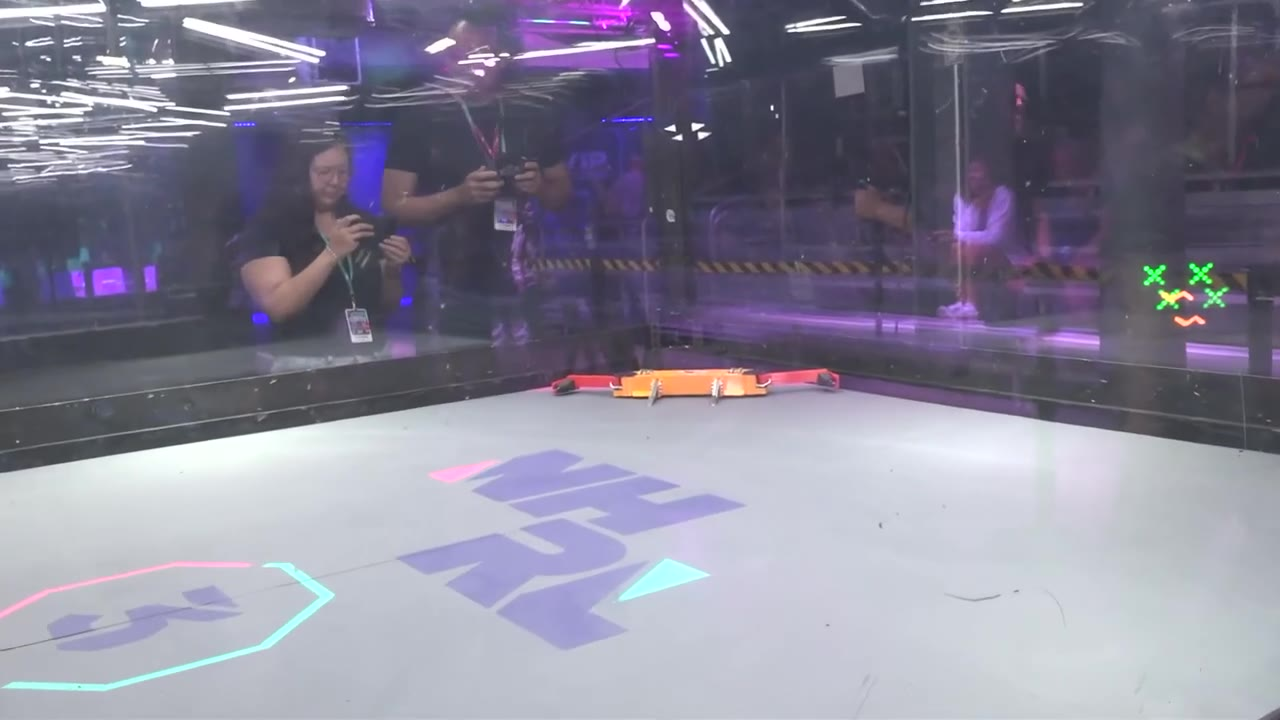combatbot: (550, 367, 837, 409)
